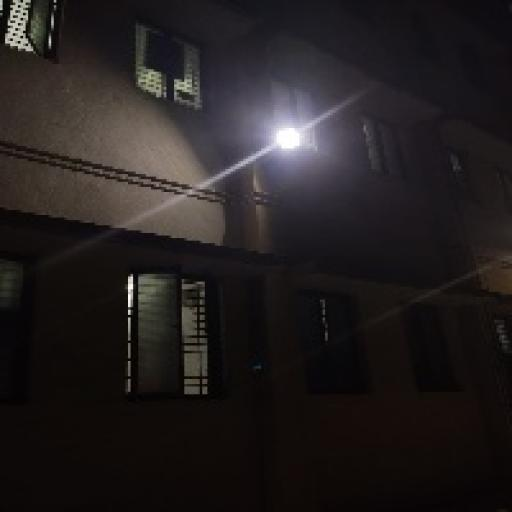Working: (264, 123, 312, 161)
